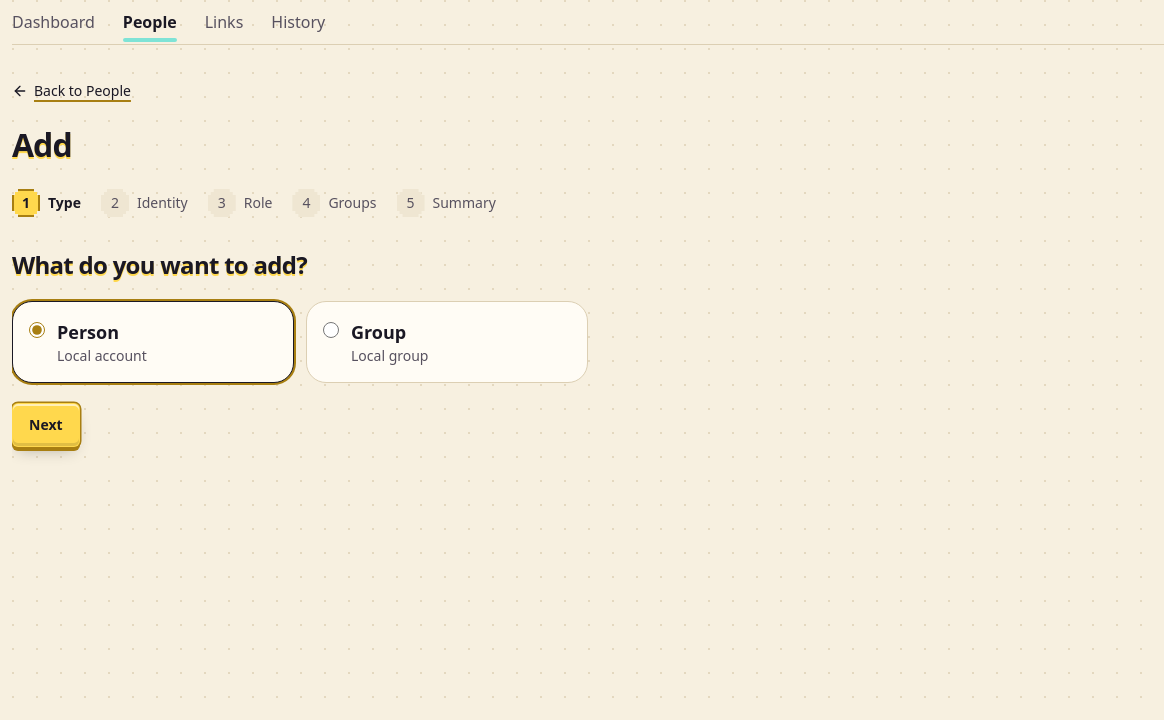
AddPeople › goes step by step, the focus on each step's heading, checking the identity before going on
expect the heading "What do you want to add?" is shown: met, box [12,248,307,281]
Click the button "Next": (46, 425) [12,403,80,447]
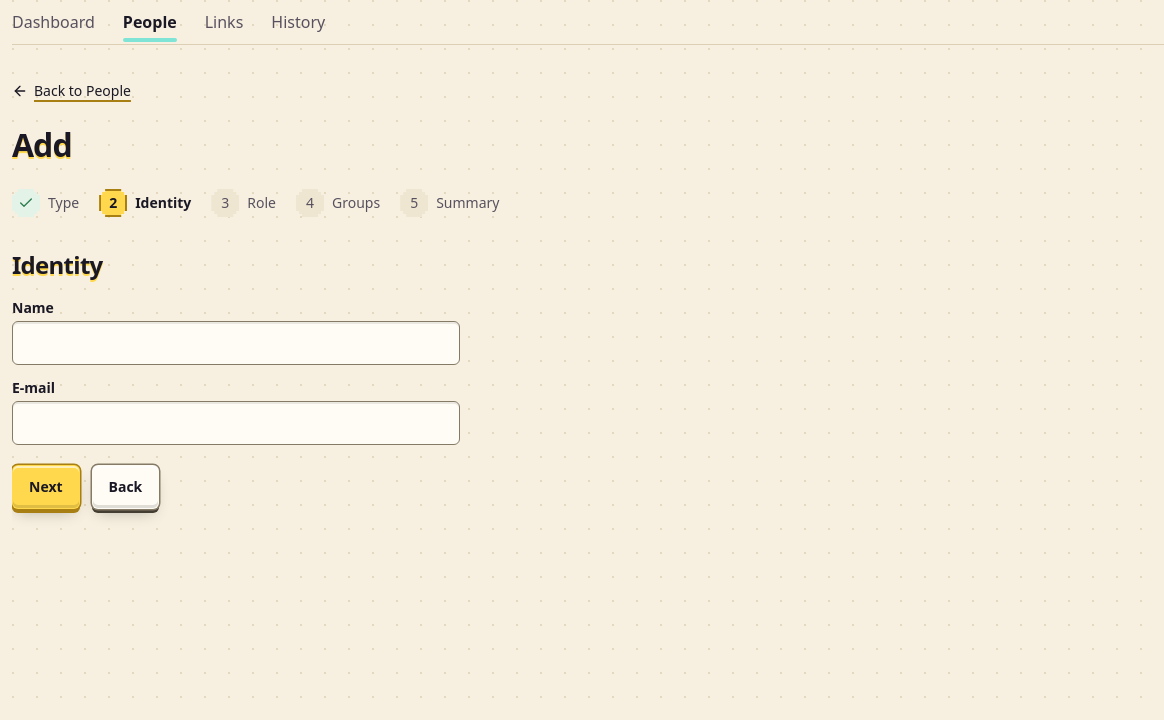
expect the heading "Identity" is shown: met, box [12,248,102,281]
Click the button "Next": (46, 487) [12,465,80,509]
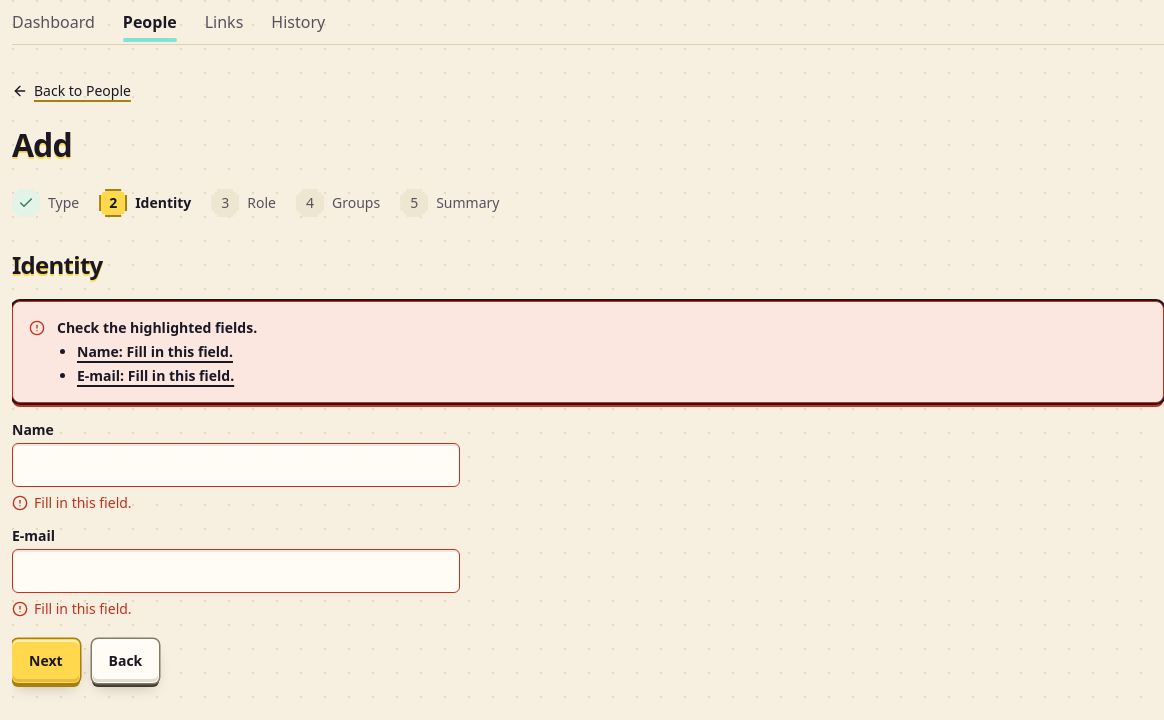
expect the heading "Identity" is shown: met, box [12,248,102,281]
In the field labelled "Name": (236, 465) [12,443,460,487], type "Zoé"
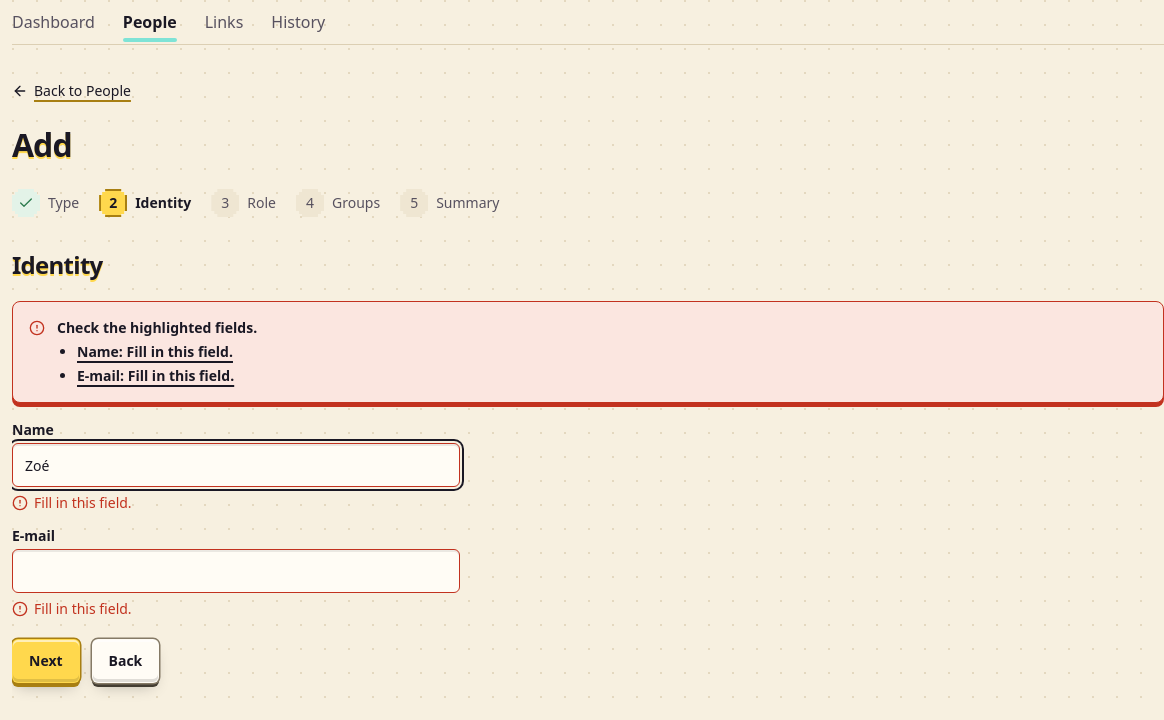
In the field labelled "E-mail": (236, 571) [12,549,460,593], type "zoe@example.invalid"
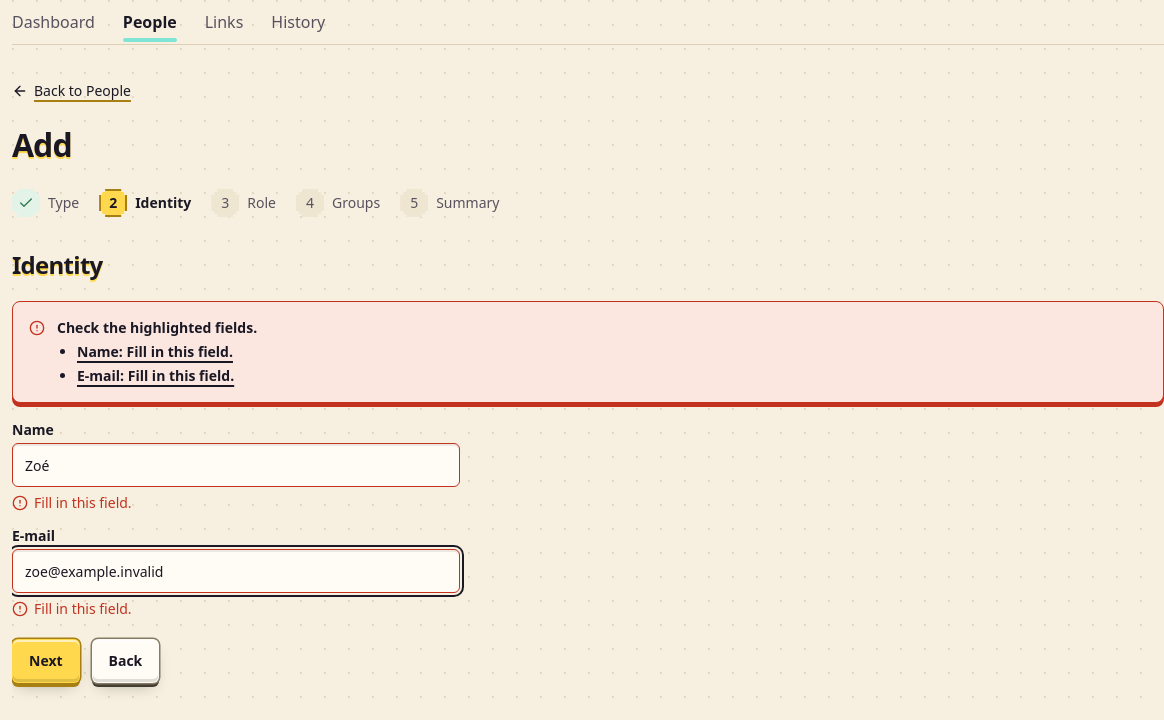
Click the button "Next": (46, 661) [12,639,80,683]
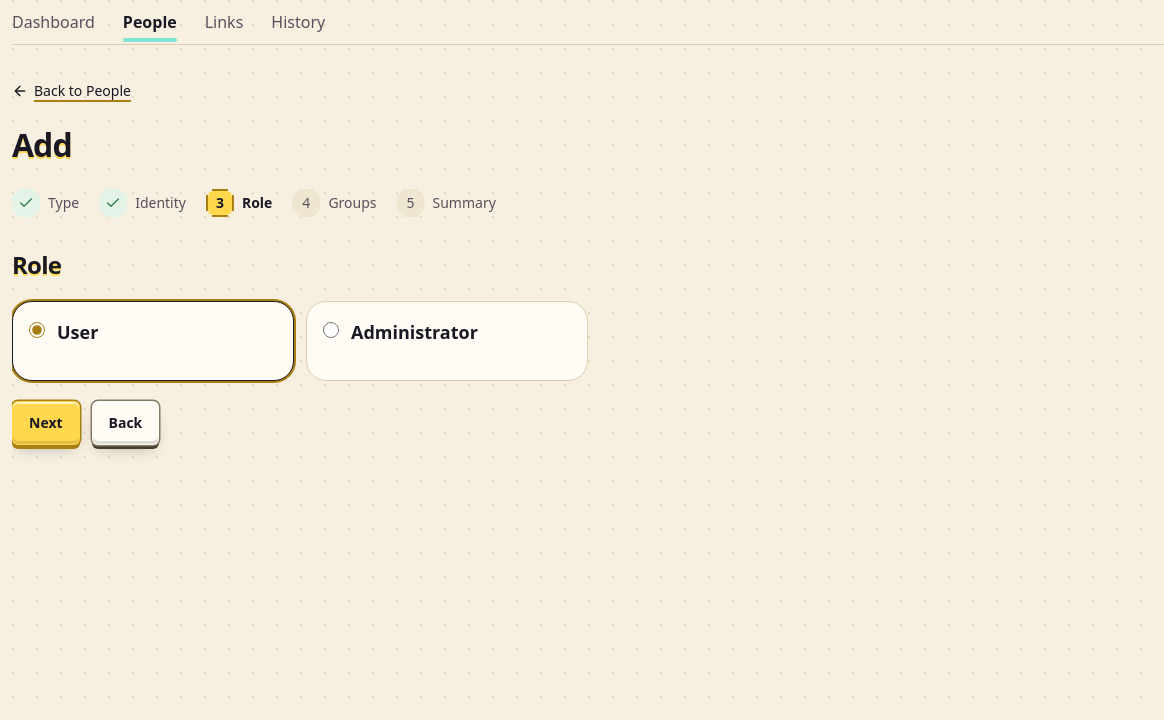
expect the heading "Role" is shown: met, box [12,248,61,281]
Click the button "Back": (125, 423) [92,401,159,445]
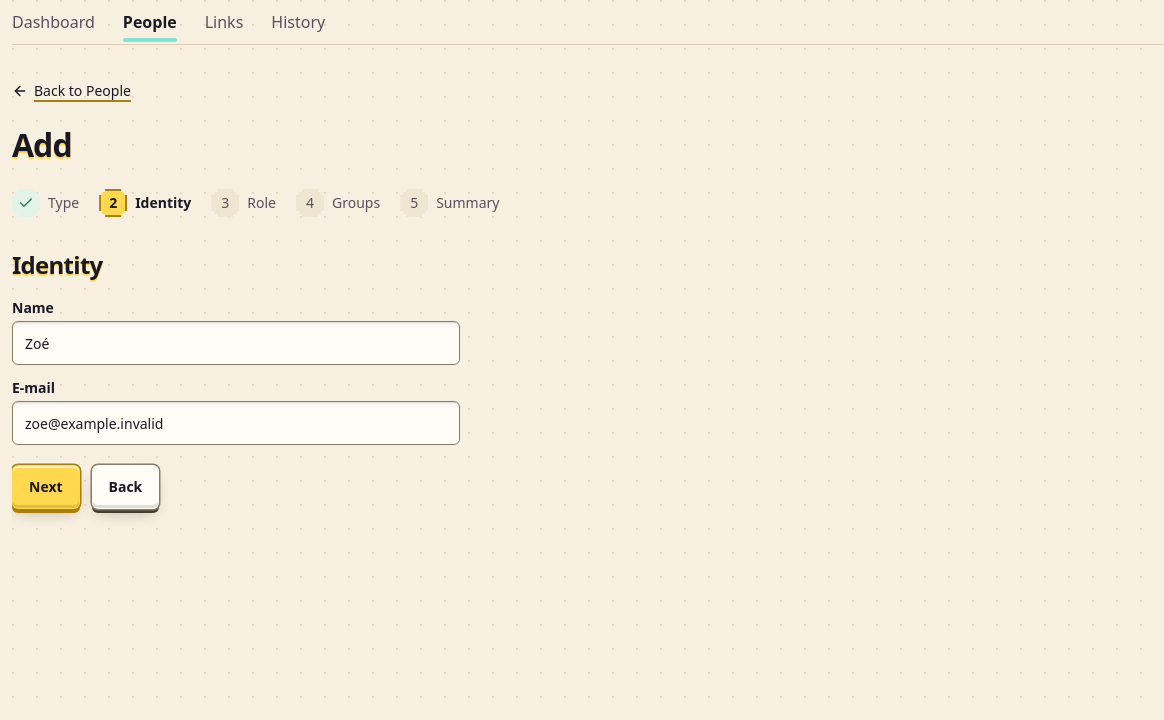
expect the heading "Identity" is shown: met, box [12,248,102,281]
expect the field labelled "Name" holds "Zoé": met, box [12,321,460,365]
